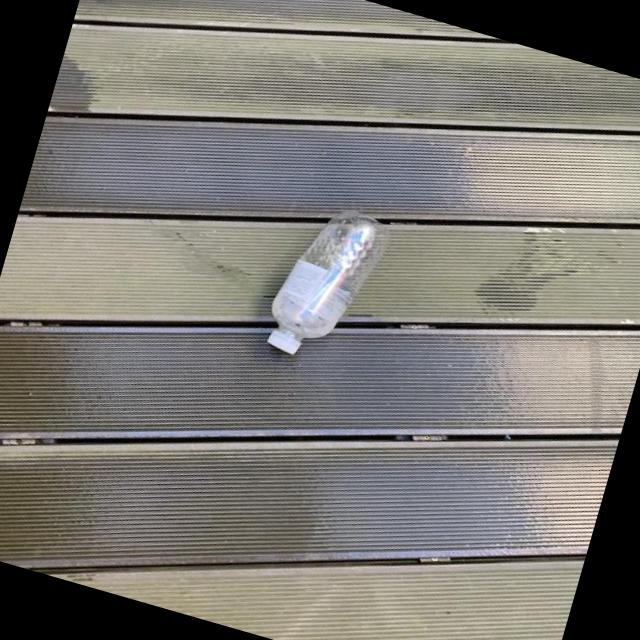BotolPlastik: (258, 195, 394, 372)
